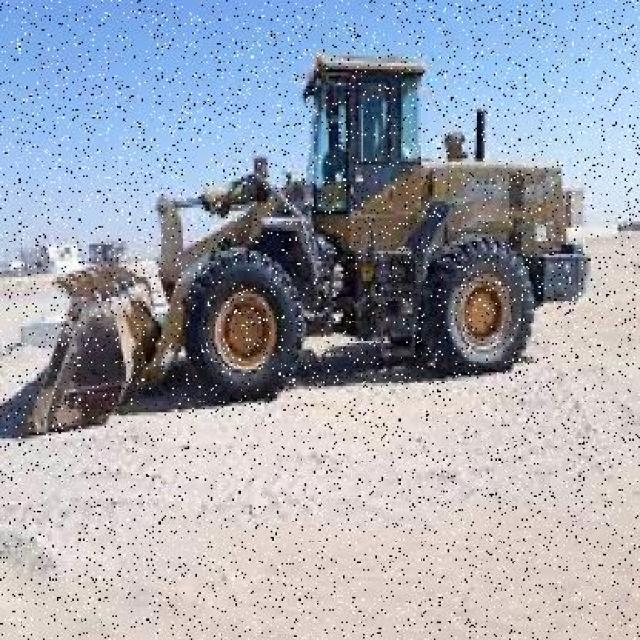buldozerpayloadergrader: (21, 59, 572, 438)
